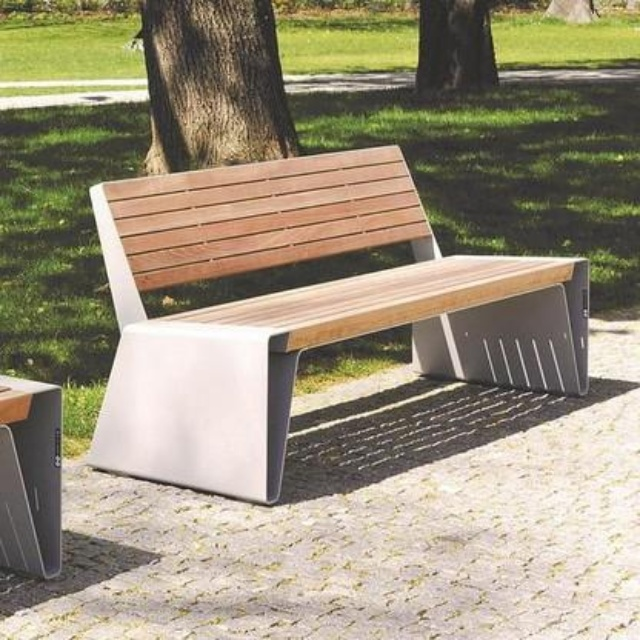obstacle: (92, 100, 586, 503)
